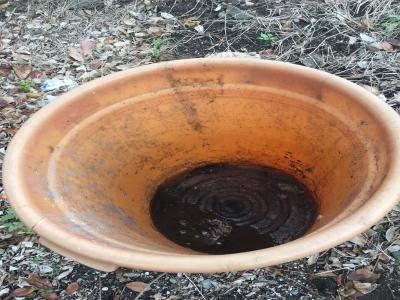bucket: (1, 55, 397, 277)
